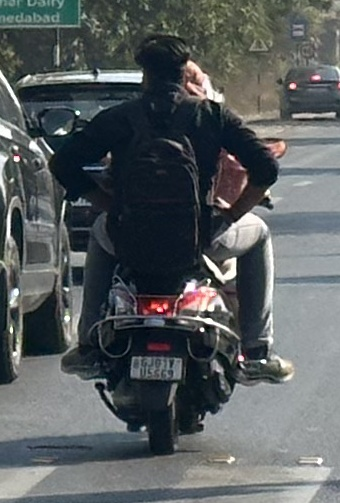BikeWithRider: (40, 27, 302, 460)
NoHelmet: (125, 28, 201, 102)
